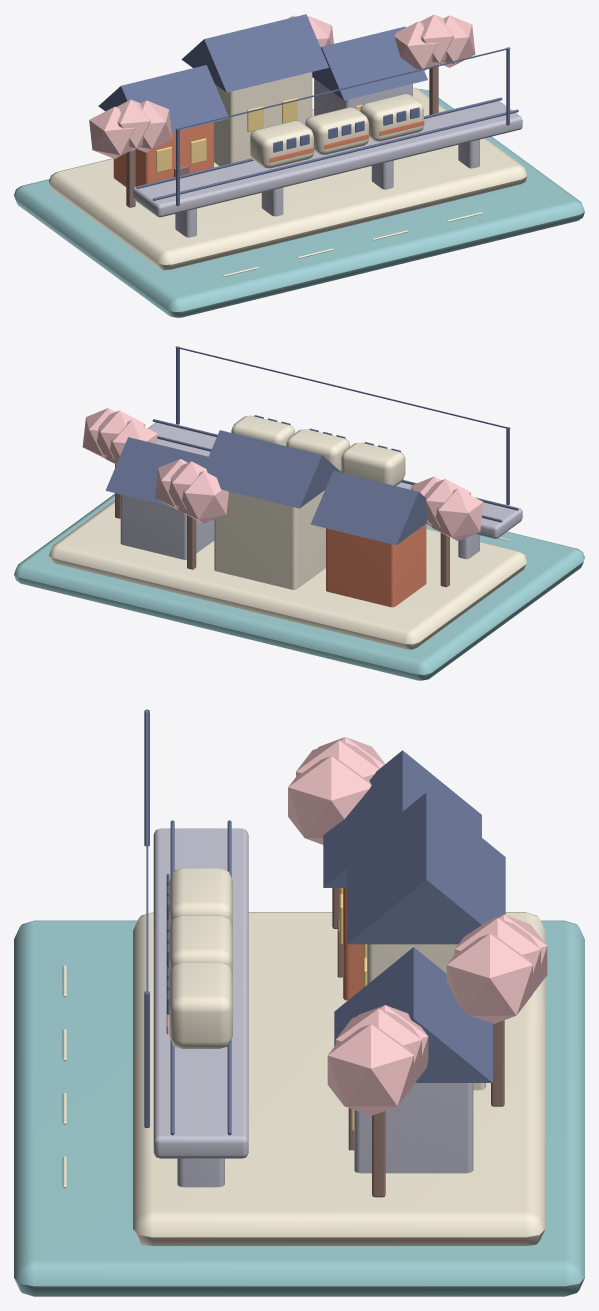
The model's file is coastal-studio.glb.
3 renders of one model, top to bottom at view 1: azimuth 30°, elevation 25°; view 2: azimuth 150°, elevation 25°; view 3: azimuth 270°, elevation 25°, orthographic. The views are drawn at different scales.
Parts seen in each view (by area): view 1: Sea tile, Island, Railway viaduct, Library roof, Workshop roof, Library walls, Studio roof, Studio walls, Train carriage, Train carriage.001, Train carriage.002, Blossom canopy.001 (+16 smaller); view 2: Island, Sea tile, Library walls, Library roof, Studio walls, Studio roof, Workshop walls, Workshop roof, Railway viaduct, Train carriage, Blossom canopy.001, Blossom canopy.007 (+12 smaller); view 3: Sea tile, Island, Railway viaduct, Library roof, Workshop roof, Workshop walls, Studio roof, Blossom canopy.005, Blossom canopy.008, Train carriage.002, Blossom canopy.002, Train carriage.001 (+11 smaller).
Boxes of the visible parts, x1,y1,x2,y2 form: Sea tile: (14, 89, 584, 317); Island: (49, 87, 527, 270); Railway viaduct: (132, 101, 522, 217); Library roof: (181, 14, 328, 92); Workshop roof: (312, 26, 427, 100); Library walls: (214, 72, 312, 165); Studio roof: (98, 65, 229, 132); Studio walls: (113, 122, 213, 186); Train carriage: (250, 121, 313, 168); Train carriage.001: (305, 107, 368, 154); Train carriage.002: (360, 94, 423, 141); Blossom canopy.001: (89, 106, 134, 158); Island: (49, 500, 527, 649); Sea tile: (14, 494, 584, 680); Library walls: (214, 490, 325, 589); Library roof: (204, 430, 341, 508); Studio walls: (326, 524, 426, 607); Studio roof: (310, 471, 427, 545); Workshop walls: (120, 494, 214, 559); Workshop roof: (105, 437, 208, 506); Railway viaduct: (148, 422, 522, 538); Train carriage: (341, 442, 405, 485); Blossom canopy.001: (432, 488, 483, 540); Blossom canopy.007: (178, 471, 228, 523); Sea tile: (14, 920, 584, 1296); Island: (133, 912, 545, 1245); Railway viaduct: (153, 828, 248, 1158); Library roof: (347, 792, 505, 944); Workshop roof: (334, 947, 492, 1082); Workshop walls: (354, 1083, 473, 1173); Studio roof: (323, 750, 481, 887); Blossom canopy.005: (327, 1024, 413, 1115); Blossom canopy.008: (446, 933, 532, 1024); Train carriage.002: (169, 962, 232, 1048); Blossom canopy.002: (288, 756, 371, 844); Train carriage.001: (169, 915, 232, 974).
Size of the model in its own units: 5.3 by 1.98 by 3.6.
